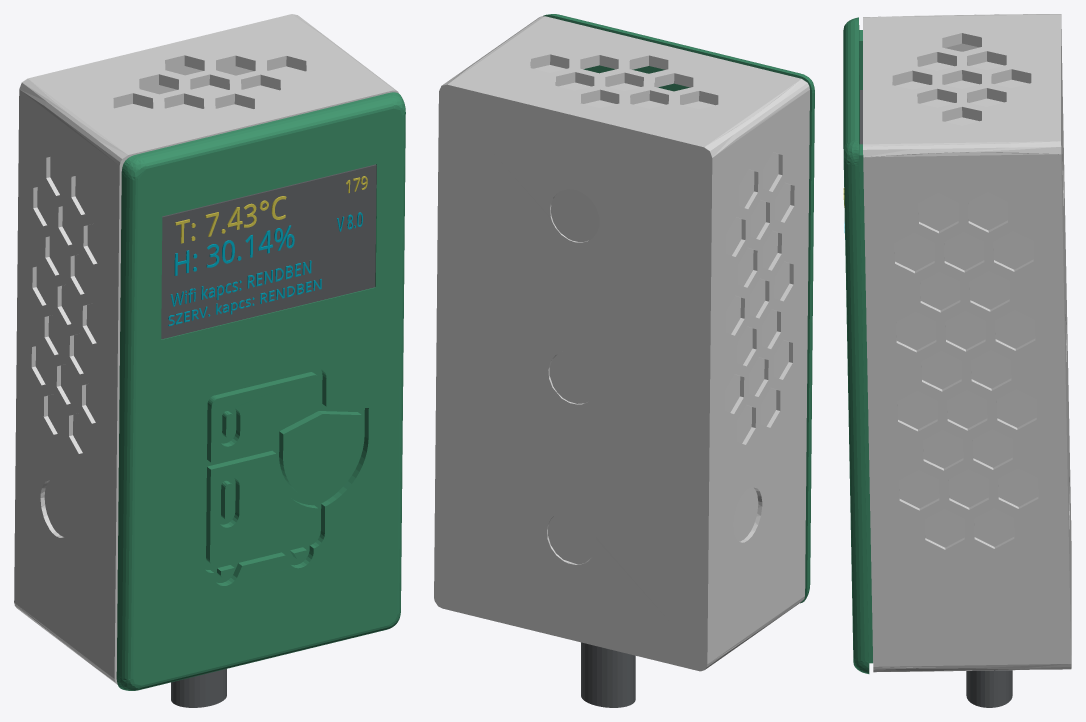
Rendered from feher_zold.glb.
The picture shows the model from 3 angles, left to right: view 1: azimuth 30°, elevation 25°; view 2: azimuth 150°, elevation 25°; view 3: azimuth 270°, elevation 25°; orthographic projection. The views are drawn at different scales.
Parts seen in each view (by area): view 1: Mesh_Mesh_head_geo.001_lambert2SG.001; view 2: Mesh_Mesh_head_geo.001_lambert2SG.001; view 3: Mesh_Mesh_head_geo.001_lambert2SG.001.
Boxes of the visible parts, bbox=[...] form: Mesh_Mesh_head_geo.001_lambert2SG.001: bbox=[14, 14, 405, 707]; Mesh_Mesh_head_geo.001_lambert2SG.001: bbox=[434, 14, 814, 707]; Mesh_Mesh_head_geo.001_lambert2SG.001: bbox=[843, 14, 1071, 707].
Size of the model in its own units: 33 by 70.15 by 23.52.
